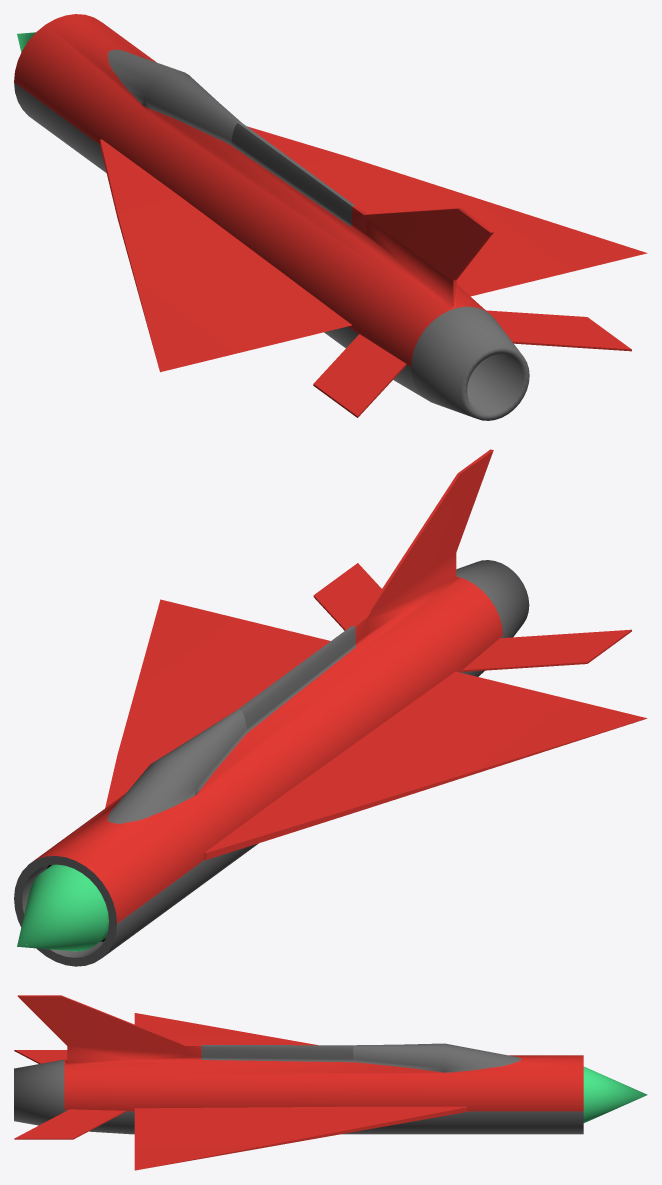
The picture shows the model from 3 angles, top to bottom: view 1: azimuth 30°, elevation 25°; view 2: azimuth 150°, elevation 25°; view 3: azimuth 270°, elevation 25°; orthographic projection. The views are drawn at different scales.
Parts seen in each view (by area): view 1: Fuse, Wing_L, Wing1_L, Wing1_R, Wing_R, Elevator_L, Wing2_L, Wing2_R, Elevator_R; view 2: Fuse, Wing_L, Wing1_L, Wing1_R, Wing_R, Elevator_L, Wing2_L, Wing2_R, Elevator_R; view 3: Fuse, Wing_R, Wing1_R, Elevator_R, Wing2_R, Wing2_L, Wing1_L, Elevator_L.
Part boxes in pixels (x1=…): Fuse: x1=14, y1=14, x2=529, y2=420; Wing_L: x1=100, y1=139, x2=351, y2=333; Wing1_L: x1=117, y1=212, x2=317, y2=353; Wing1_R: x1=347, y1=156, x2=572, y2=291; Wing_R: x1=247, y1=126, x2=489, y2=296; Elevator_L: x1=313, y1=334, x2=406, y2=417; Wing2_L: x1=135, y1=279, x2=234, y2=372; Wing2_R: x1=473, y1=197, x2=647, y2=271; Elevator_R: x1=486, y1=310, x2=631, y2=351; Fuse: x1=14, y1=449, x2=529, y2=966; Wing_L: x1=204, y1=671, x2=489, y2=859; Wing1_L: x1=347, y1=680, x2=572, y2=814; Wing1_R: x1=117, y1=618, x2=317, y2=753; Wing_R: x1=105, y1=638, x2=330, y2=808; Elevator_L: x1=462, y1=629, x2=631, y2=671; Wing2_L: x1=472, y1=700, x2=647, y2=774; Wing2_R: x1=135, y1=599, x2=235, y2=688; Elevator_R: x1=313, y1=563, x2=381, y2=630; Fuse: x1=14, y1=995, x2=647, y2=1134; Wing_R: x1=134, y1=1106, x2=467, y2=1130; Wing1_R: x1=134, y1=1119, x2=362, y2=1147; Elevator_R: x1=14, y1=1109, x2=125, y2=1139; Wing2_R: x1=134, y1=1145, x2=267, y2=1170; Wing2_L: x1=134, y1=1013, x2=266, y2=1036; Wing1_L: x1=166, y1=1036, x2=317, y2=1045; Elevator_L: x1=14, y1=1050, x2=67, y2=1063.
Size of the model in its own units: 9.01 by 3.59 by 15.29.
3 materials, 1 textured.
